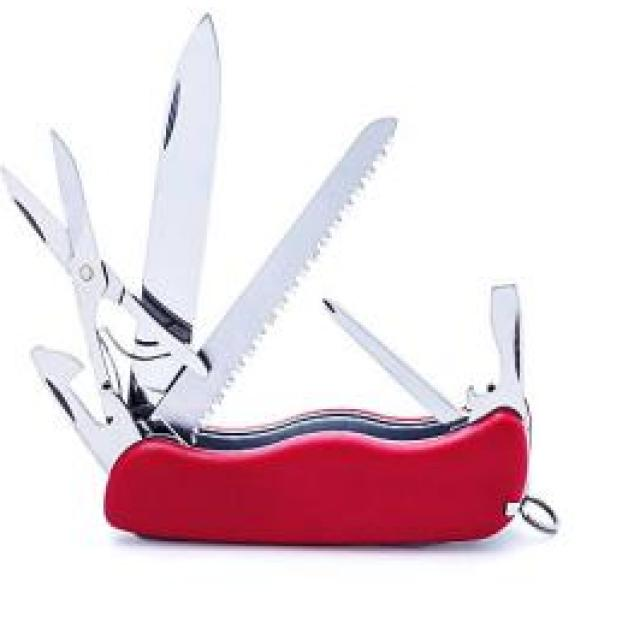knife: (136, 110, 404, 437), (120, 10, 229, 434), (315, 296, 467, 438), (24, 342, 135, 489), (461, 276, 529, 431)
